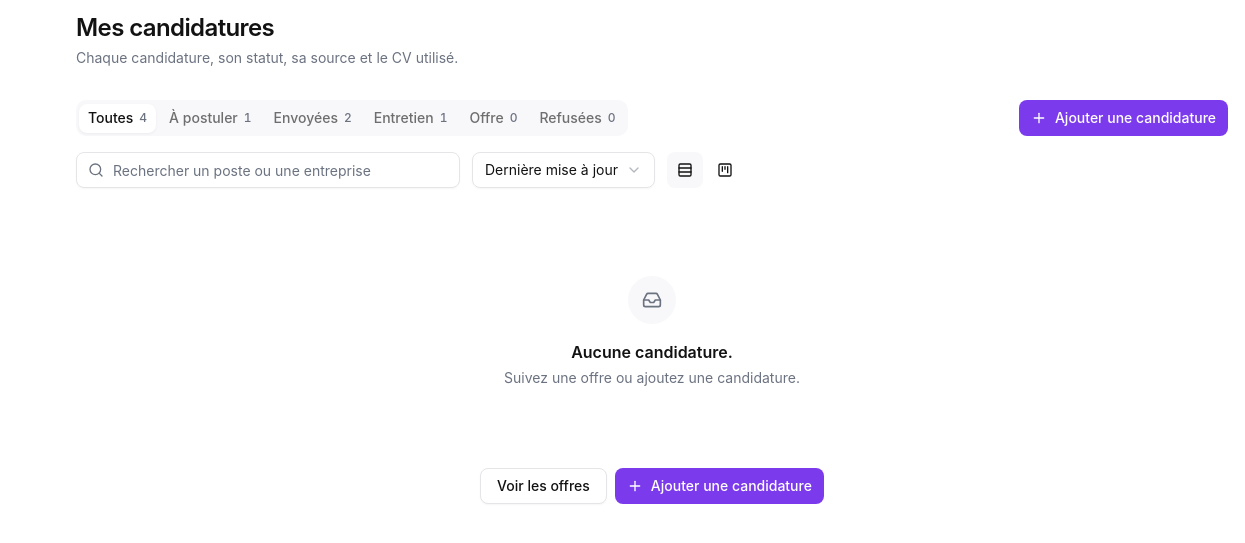
it: ApplicationsPage › change le tri, l_ecrit dans ?tri= et le transmet a l_API
This screenshot has width=1245, height=543.
Click the dropdown named "Trier par" at (564,170), box [472,152,655,188]
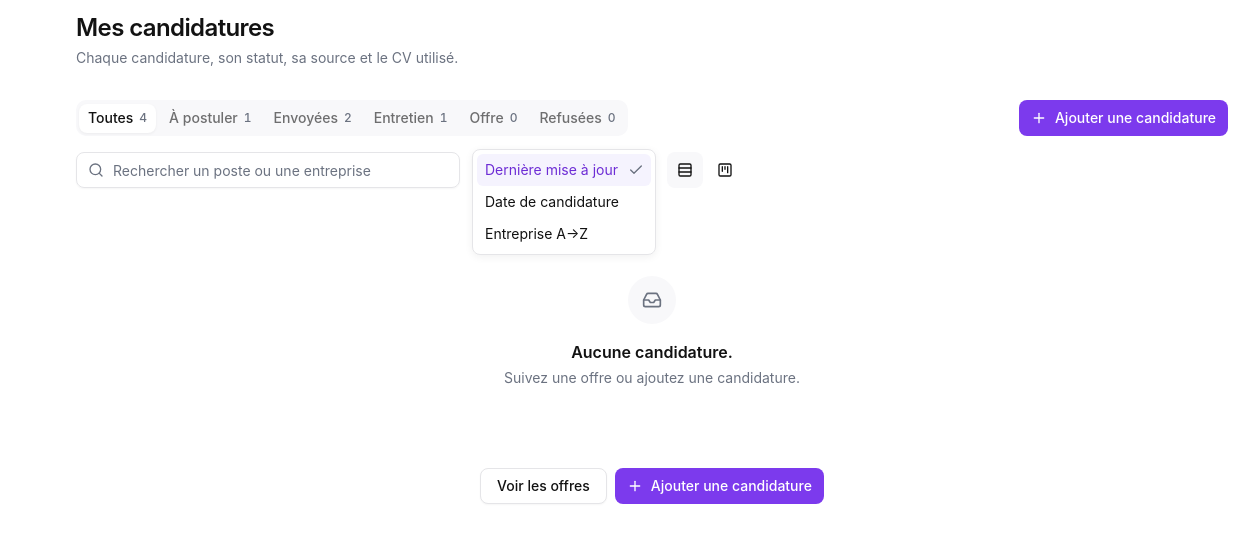
Click the option "Entreprise A→Z" at (537,234), box [485,225,588,242]
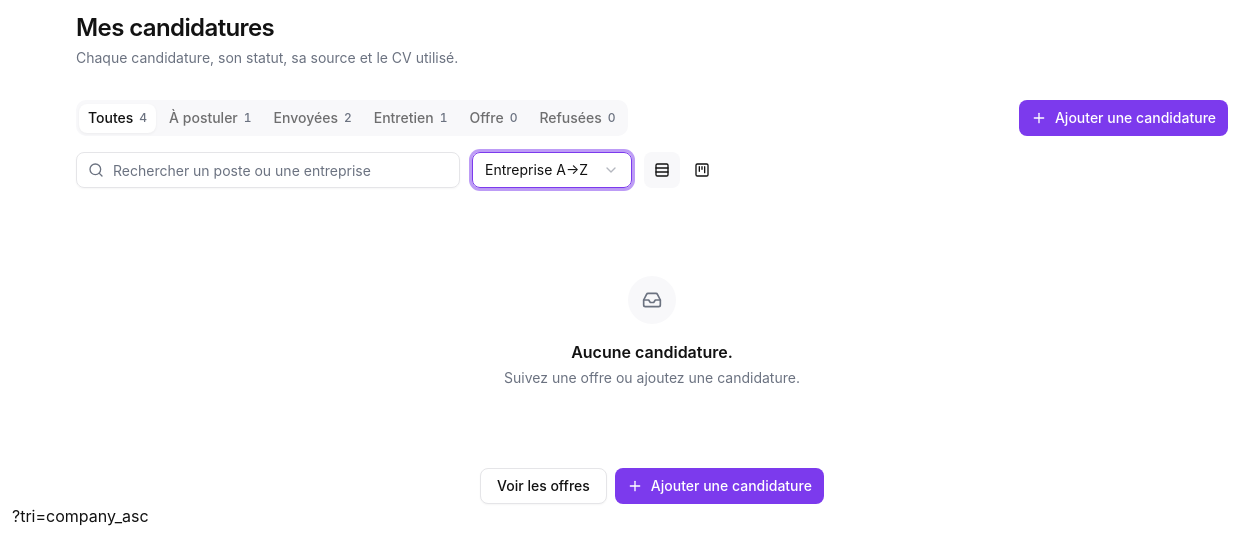
expect the text with test id "search" reads "?tri=company_asc": met, box [12,506,149,526]
